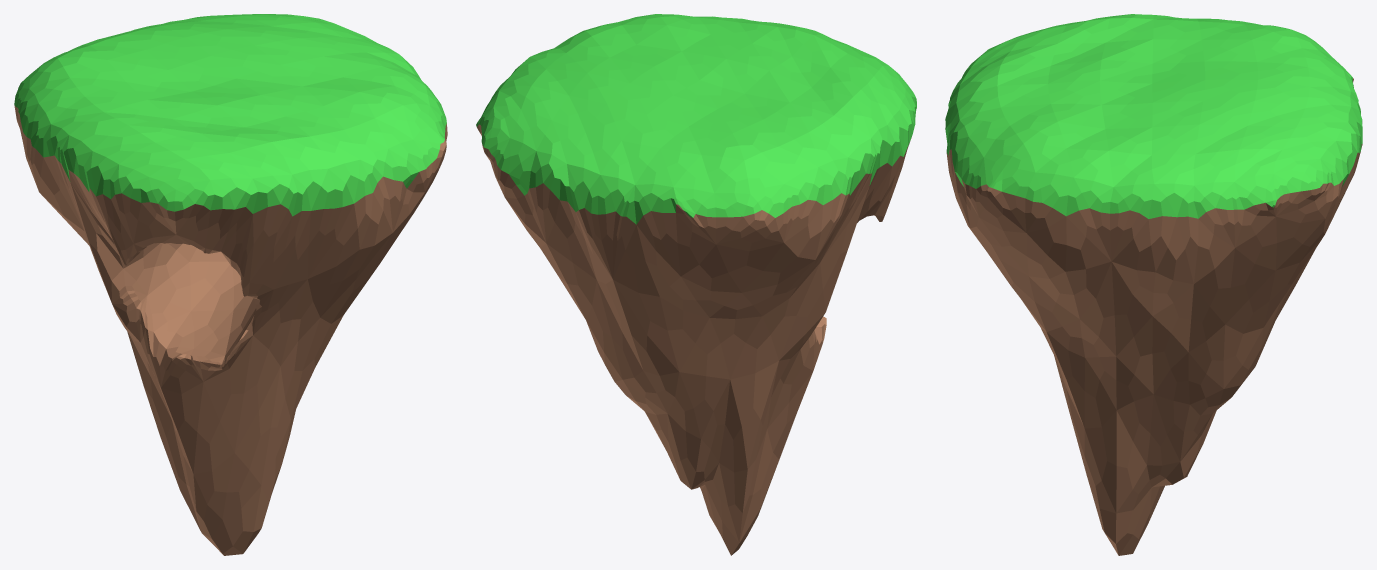
The model's file is island.fbx.
The picture shows the model from 3 angles, left to right: view 1: azimuth 30°, elevation 25°; view 2: azimuth 150°, elevation 25°; view 3: azimuth 270°, elevation 25°; orthographic projection. The views are drawn at different scales.
Parts seen in each view (by area): view 1: Island; view 2: Island; view 3: Island.
Part boxes in pixels (<box>): Island: <box>14,14,447,555</box>; Island: <box>476,14,916,555</box>; Island: <box>945,14,1362,555</box>.
Size of the model in its own units: 3564 by 4586 by 3572.
